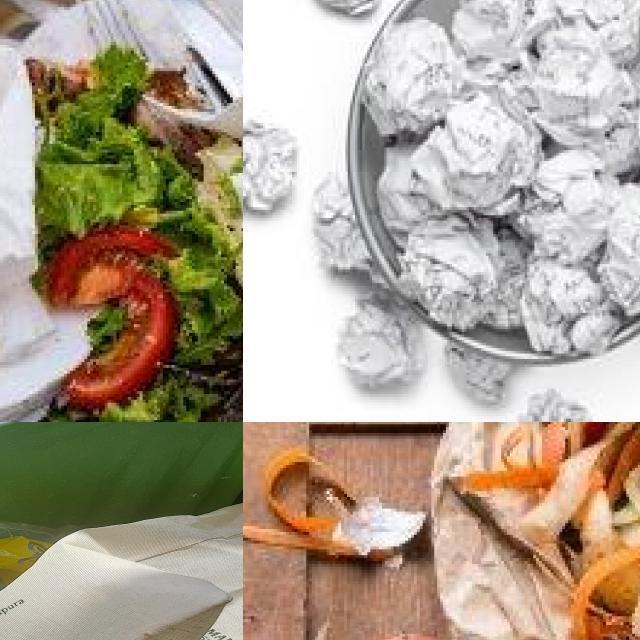Garbage: (478, 422, 640, 640), (0, 502, 243, 640)
Paper: (361, 0, 640, 354)
Plastic_Bag: (0, 521, 79, 591)
top_view_waste: (360, 0, 640, 365)
